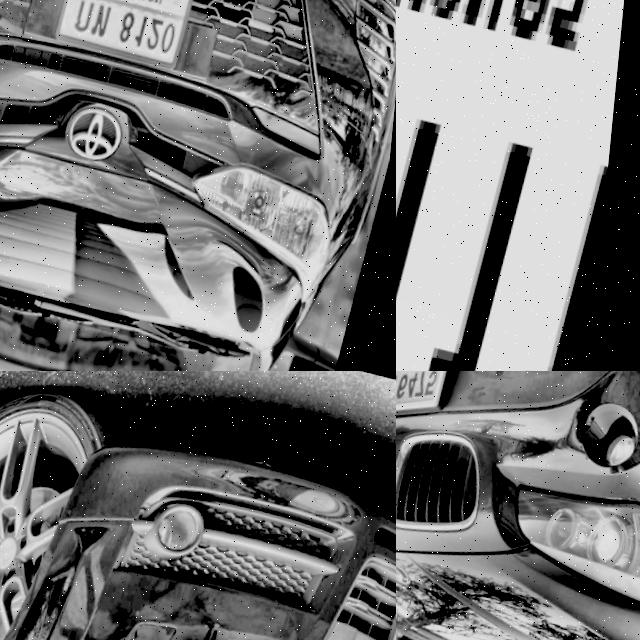license-plate: (396, 0, 640, 371), (55, 0, 204, 68), (396, 371, 463, 436)
